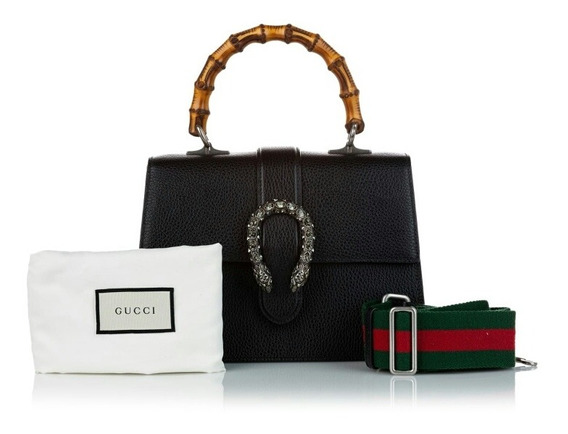cartera: (130, 19, 423, 367)
